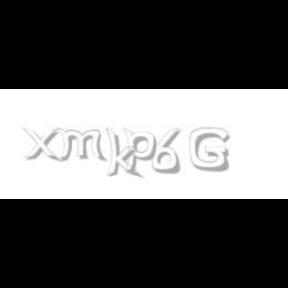6: (152, 128, 180, 176)
G: (189, 128, 229, 172)
k: (105, 128, 143, 180)
m: (56, 128, 108, 162)
p: (124, 128, 161, 174)
x: (22, 128, 64, 162)
